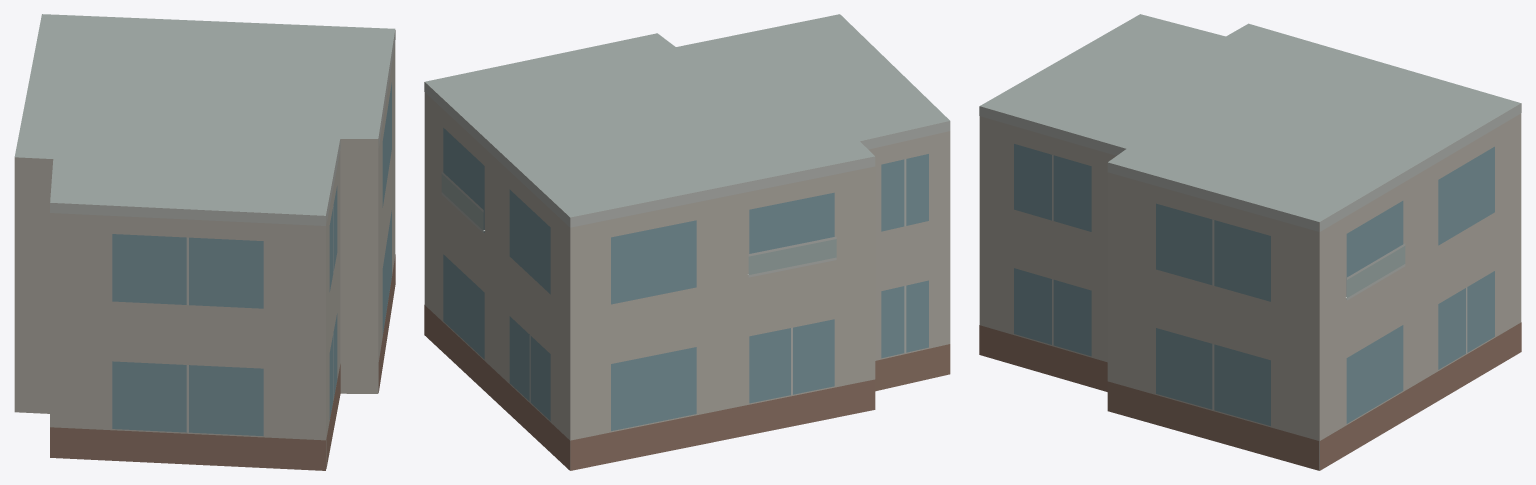
File: survey-upis-32609180.glb
3 views of the same model, side by side, from view 1: azimuth 30°, elevation 25°; view 2: azimuth 150°, elevation 25°; view 3: azimuth 270°, elevation 25° (orthographic). The views are drawn at different scales.
Parts seen in each view (by area): view 1: survey-upis-32609180.tmp; view 2: survey-upis-32609180.tmp; view 3: survey-upis-32609180.tmp.
Part boxes in pixels (x1,y1,x2,y2): survey-upis-32609180.tmp: (14,14,395,470); survey-upis-32609180.tmp: (424,14,950,470); survey-upis-32609180.tmp: (979,14,1521,470).
Bounding box in the file's own units: 10.96 × 6.1 × 12.06.
